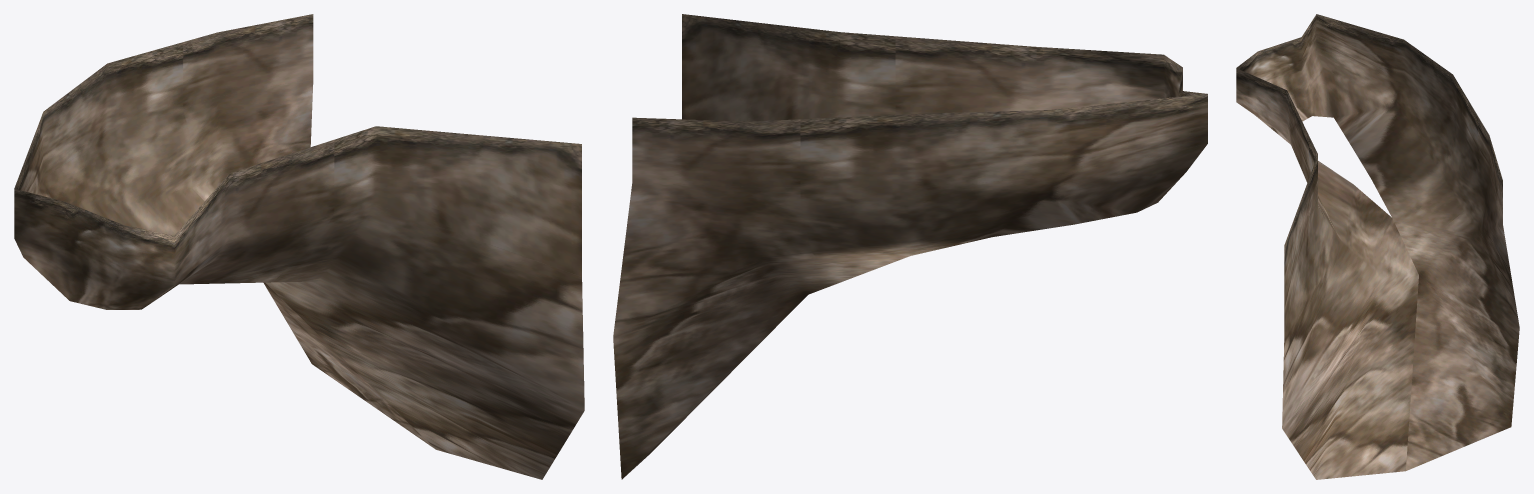
The model's file is OVERHILL_A_01_LINE48.fbx.
The picture shows the model from 3 angles, left to right: view 1: azimuth 30°, elevation 25°; view 2: azimuth 150°, elevation 25°; view 3: azimuth 270°, elevation 25°; orthographic projection. The views are drawn at different scales.
Visible parts, largest first — view 1: OVERHILL_A_01_LINE48; view 2: OVERHILL_A_01_LINE48; view 3: OVERHILL_A_01_LINE48.
Boxes of the visible parts, bbox=[...] form: OVERHILL_A_01_LINE48: bbox=[14, 14, 584, 479]; OVERHILL_A_01_LINE48: bbox=[613, 14, 1207, 479]; OVERHILL_A_01_LINE48: bbox=[1236, 14, 1519, 479].
Bounding box in the file's own units: 32962 × 25126 × 21568.
Materials: 2 (2 with a texture image).
